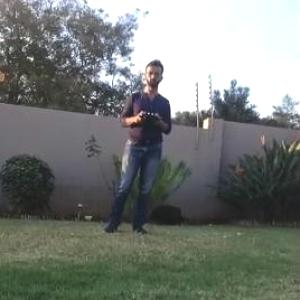follow: (99, 50, 174, 234)
